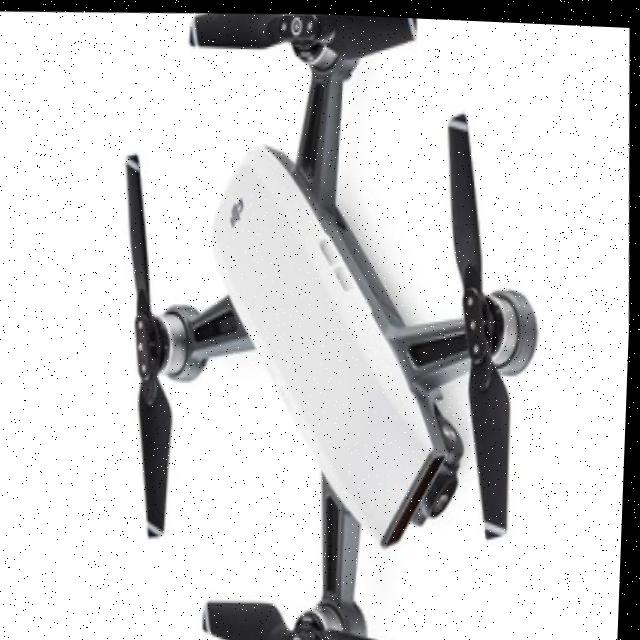drones: (89, 4, 591, 640)
